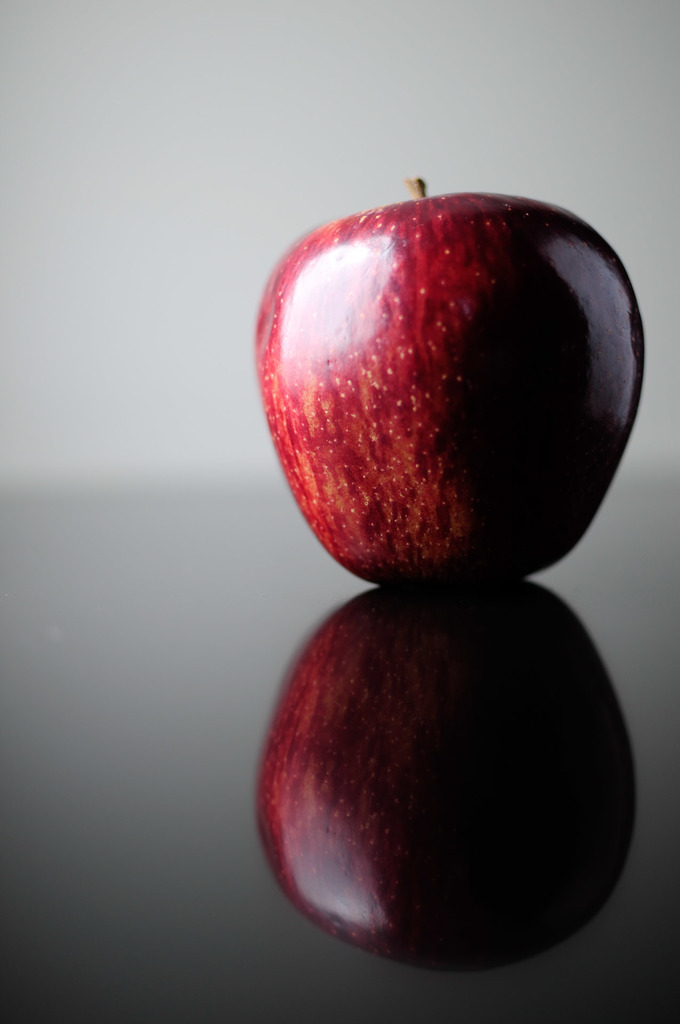Apple: (254, 181, 627, 599)
